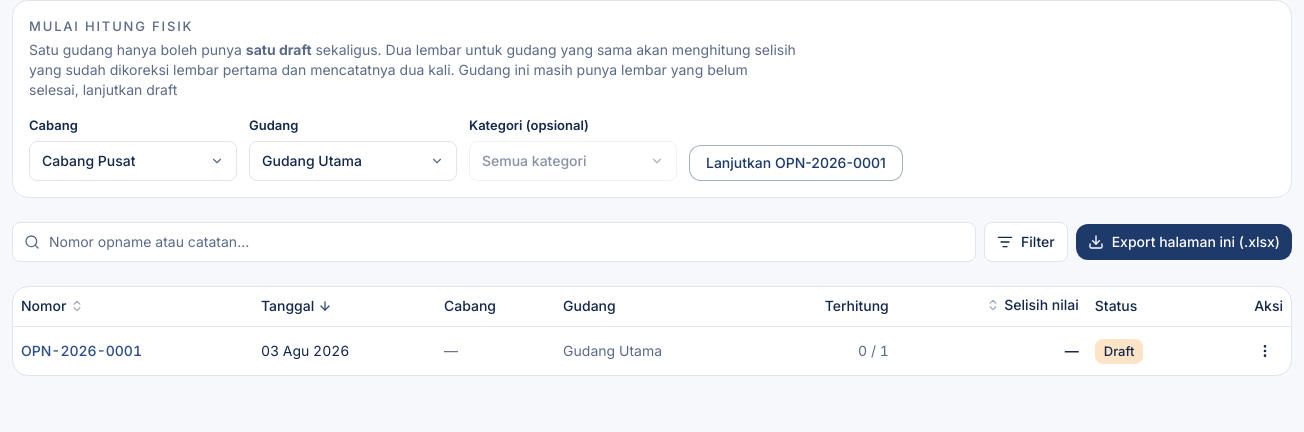
Test: OpnameScreen › withholds Buang from a counter who may not discard
Check: the link "OPN-2026-0001" is shown, box top-left (21, 342), bottom-right (142, 359)
Click the button named "Aksi untuk OPN-2026-0001" at x=1265, y=351, box top-left (1247, 335), bottom-right (1283, 367)
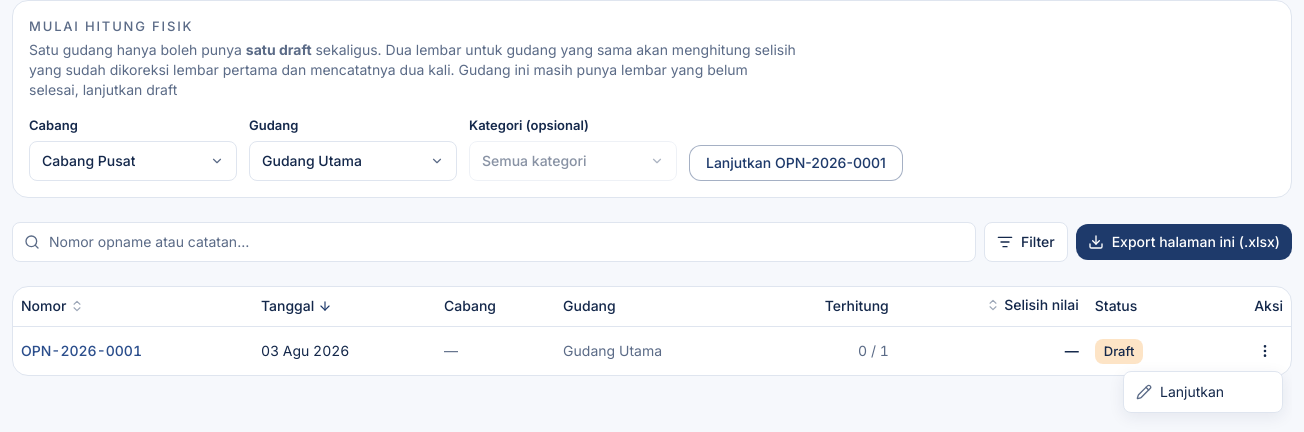
Check: the menu item "Lanjutkan" is shown, box top-left (1136, 383), bottom-right (1224, 400)
